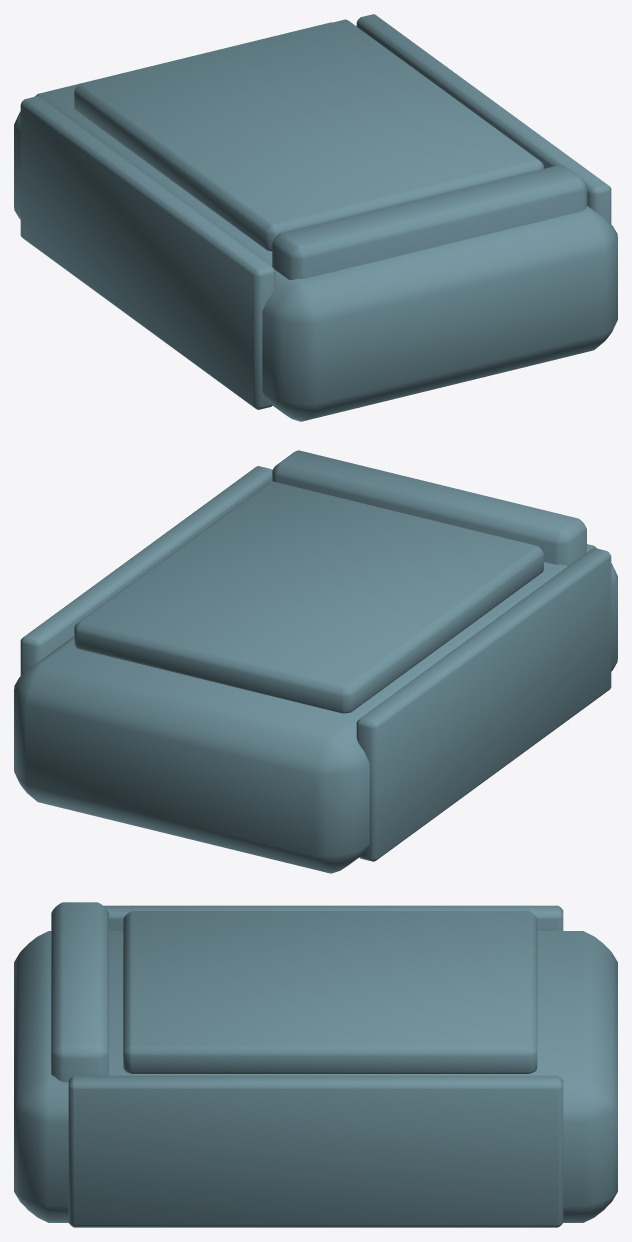
The model's file is DeltaWing.fbx.
3 renders of one model, top to bottom at view 1: azimuth 30°, elevation 25°; view 2: azimuth 150°, elevation 25°; view 3: azimuth 270°, elevation 25°, orthographic. The views are drawn at different scales.
Parts seen in each view (by area): view 1: Render_LOD0; view 2: Render_LOD0; view 3: Render_LOD0.
Boxes of the visible parts, x1=… form: Render_LOD0: x1=14, y1=14, x2=617, y2=421; Render_LOD0: x1=14, y1=450, x2=617, y2=873; Render_LOD0: x1=14, y1=902, x2=617, y2=1227.
Size of what is drawn, in the model's own units: 1.49 by 0.68 by 2.1.
